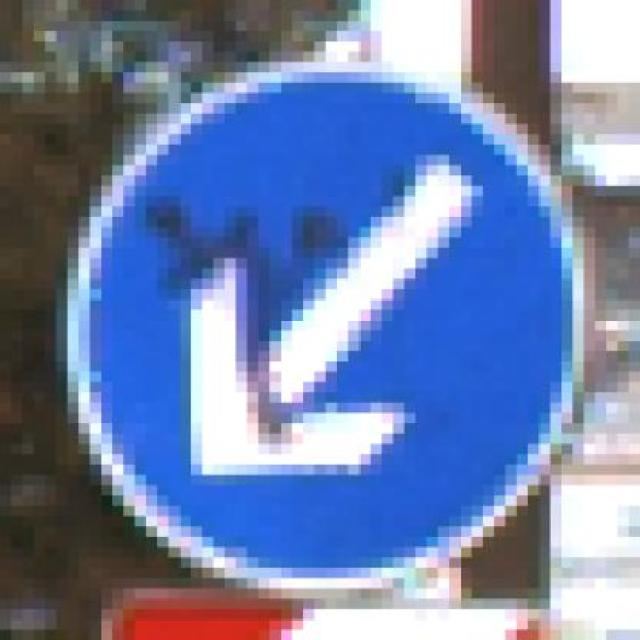Keep-Left: (45, 20, 618, 609)
